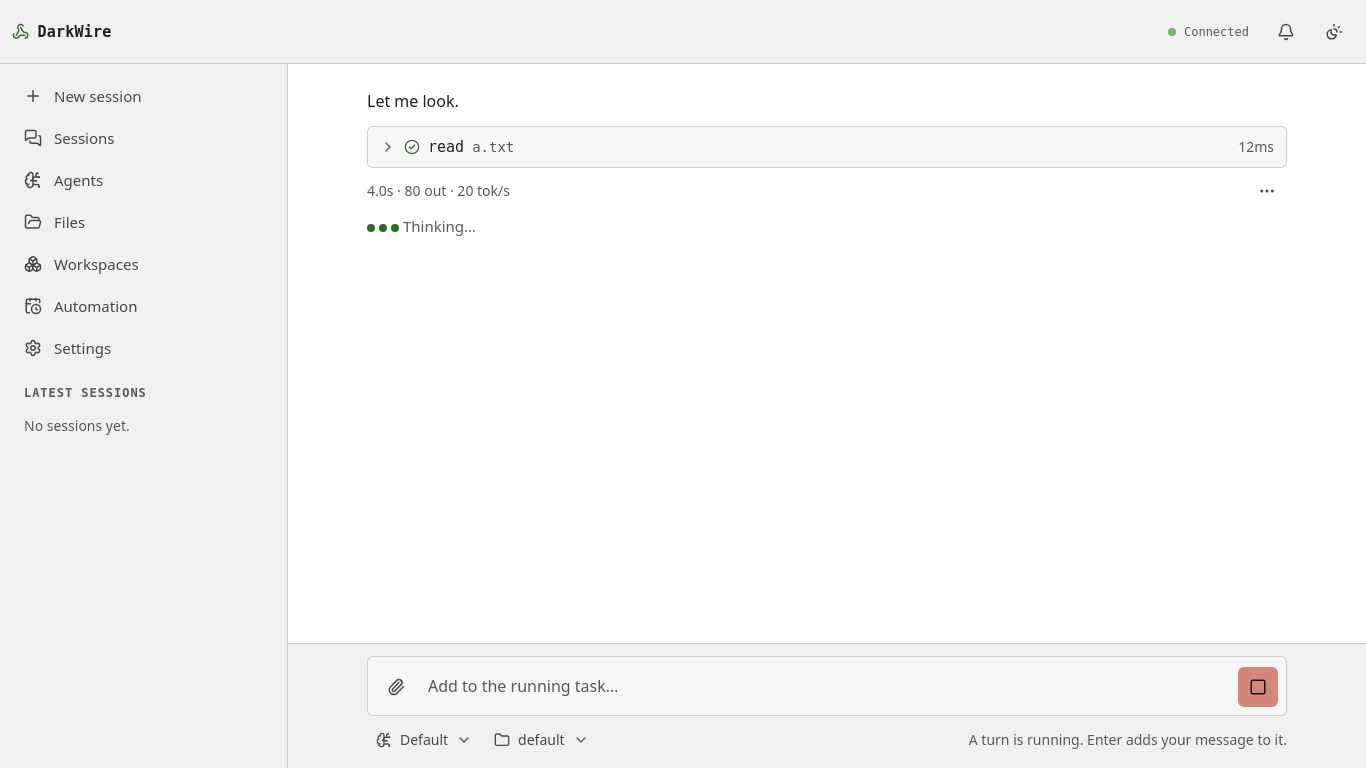
Test: a turn of several messages › gives a touch screen one menu per message, with the figures behind Details
Click the button named "Message 1 actions" at x=1267, y=191, box [1247,171,1287,211]
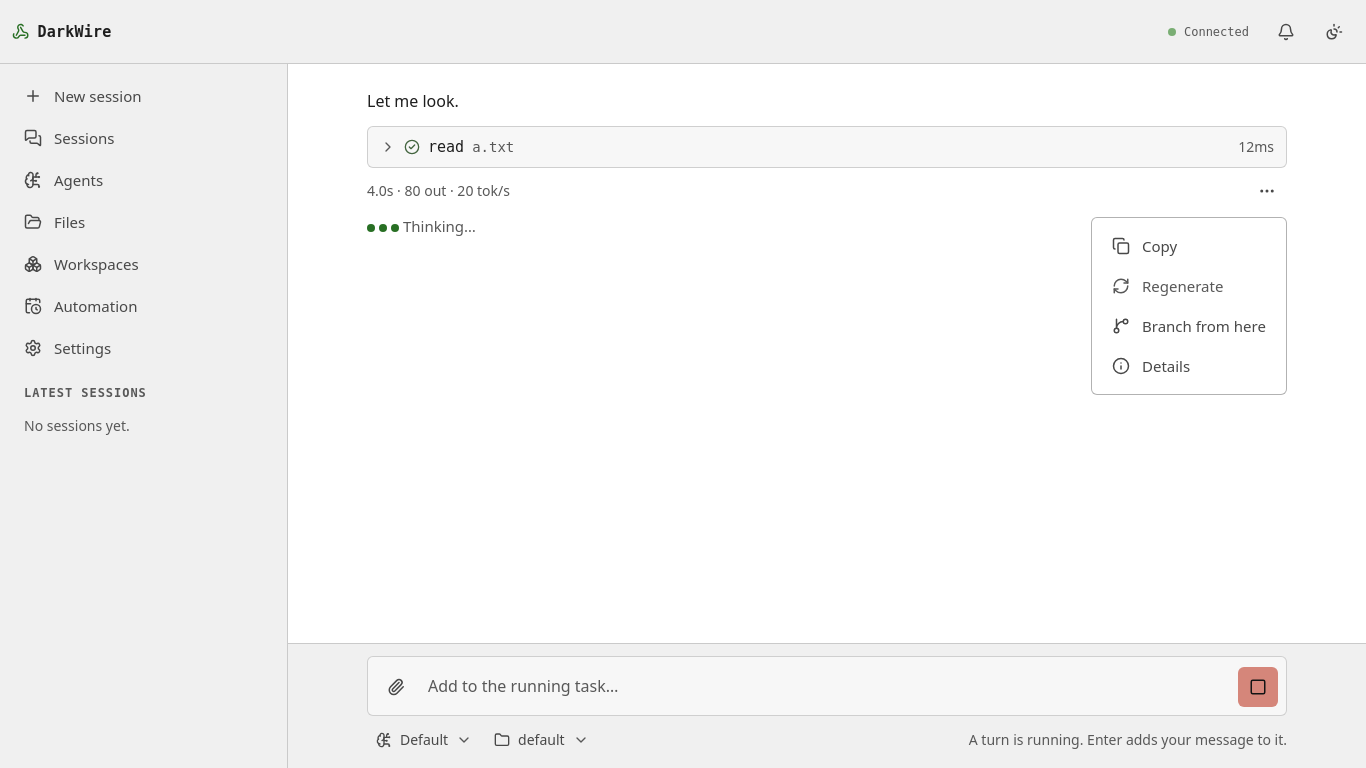
Expected: the menu item "Copy" is shown, [1112,236,1177,256]
Click the menu item "Details" at x=1151, y=366, box [1112,356,1190,376]
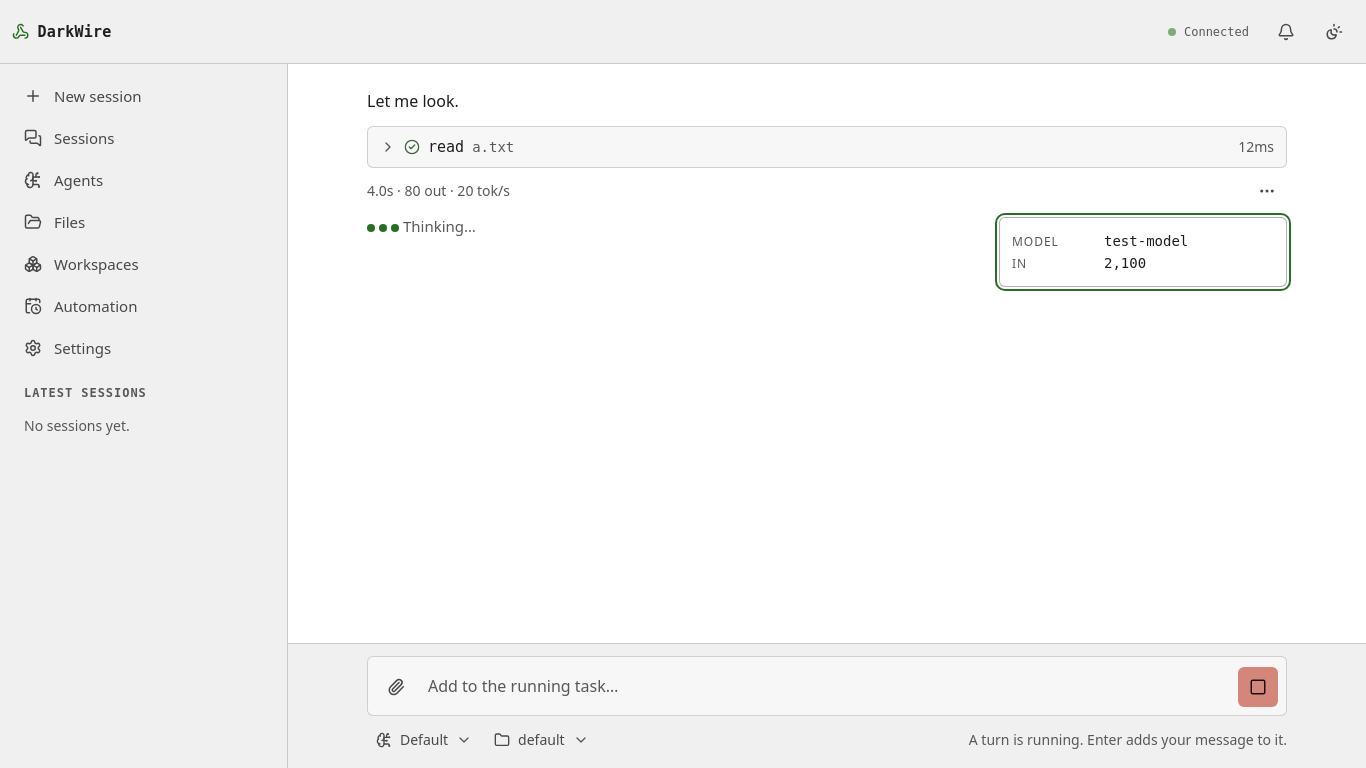
Expected: the text "test-model" is shown, [1104,230,1188,252]
Expected: the menu is gone
